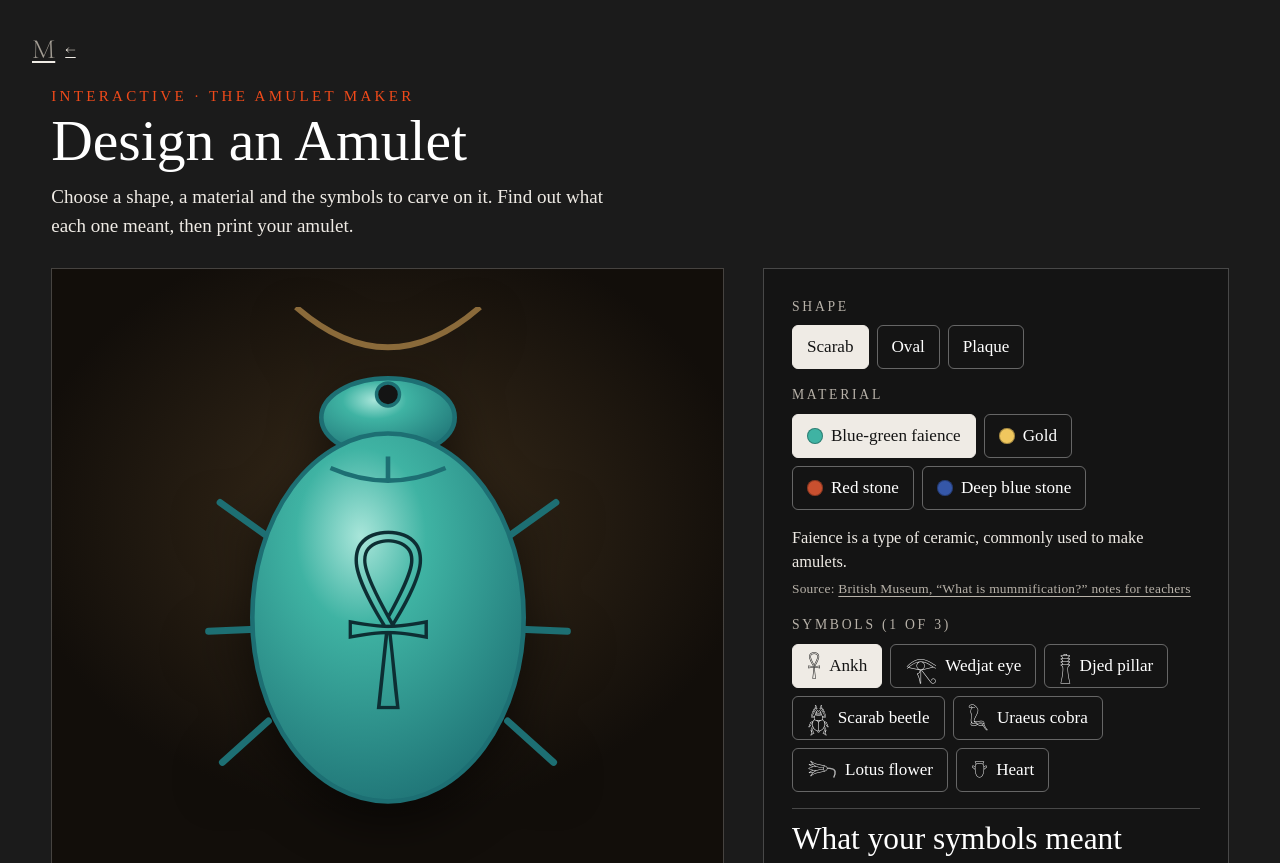
Test: Design an Amulet › carves up to three symbols, each with its meaning and source
Click the button "Wedjat eye" at (963, 666), box 890,644 -> 1036,688
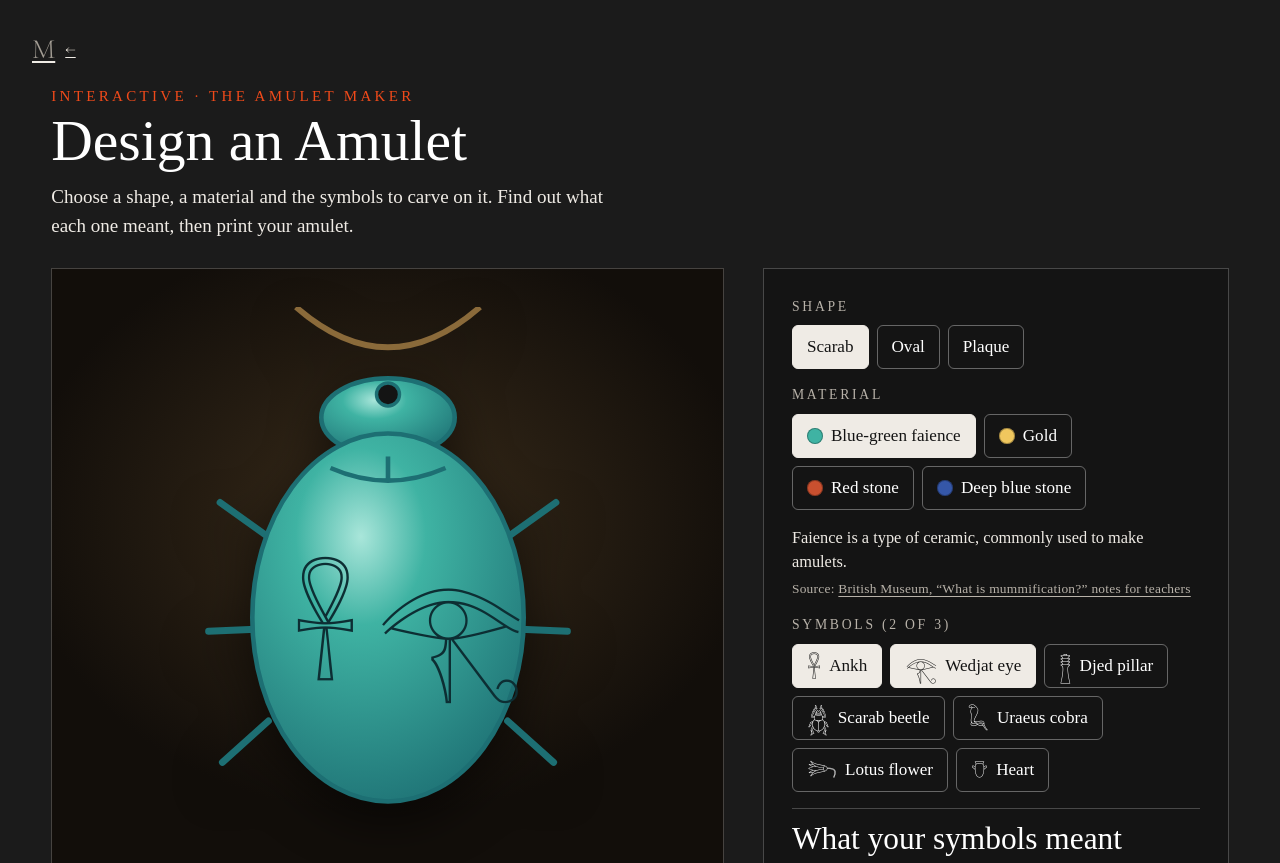
Click the button "Scarab beetle" at (868, 718), box 792,696 -> 944,740
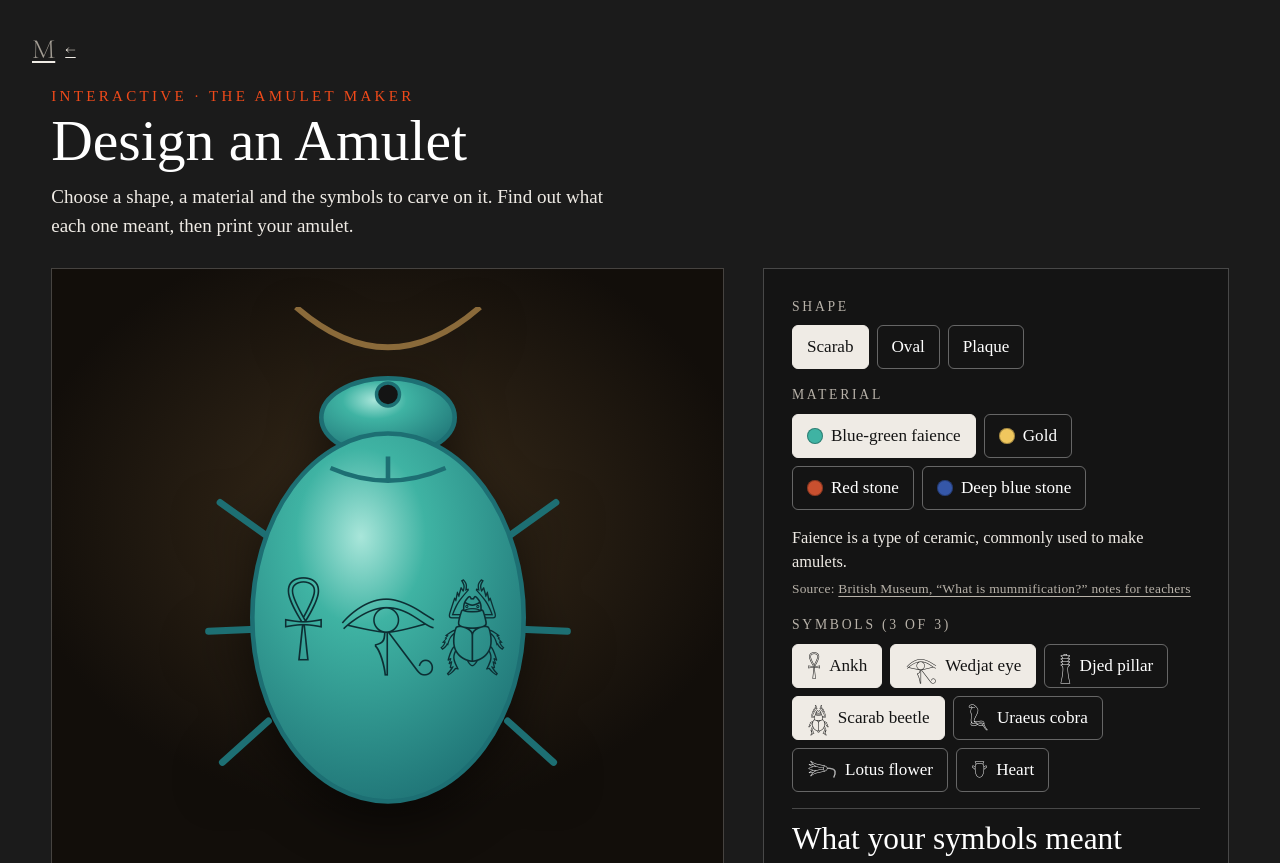
Click the button "Lotus flower" at (870, 770), box 792,748 -> 948,792
(page scrolled)
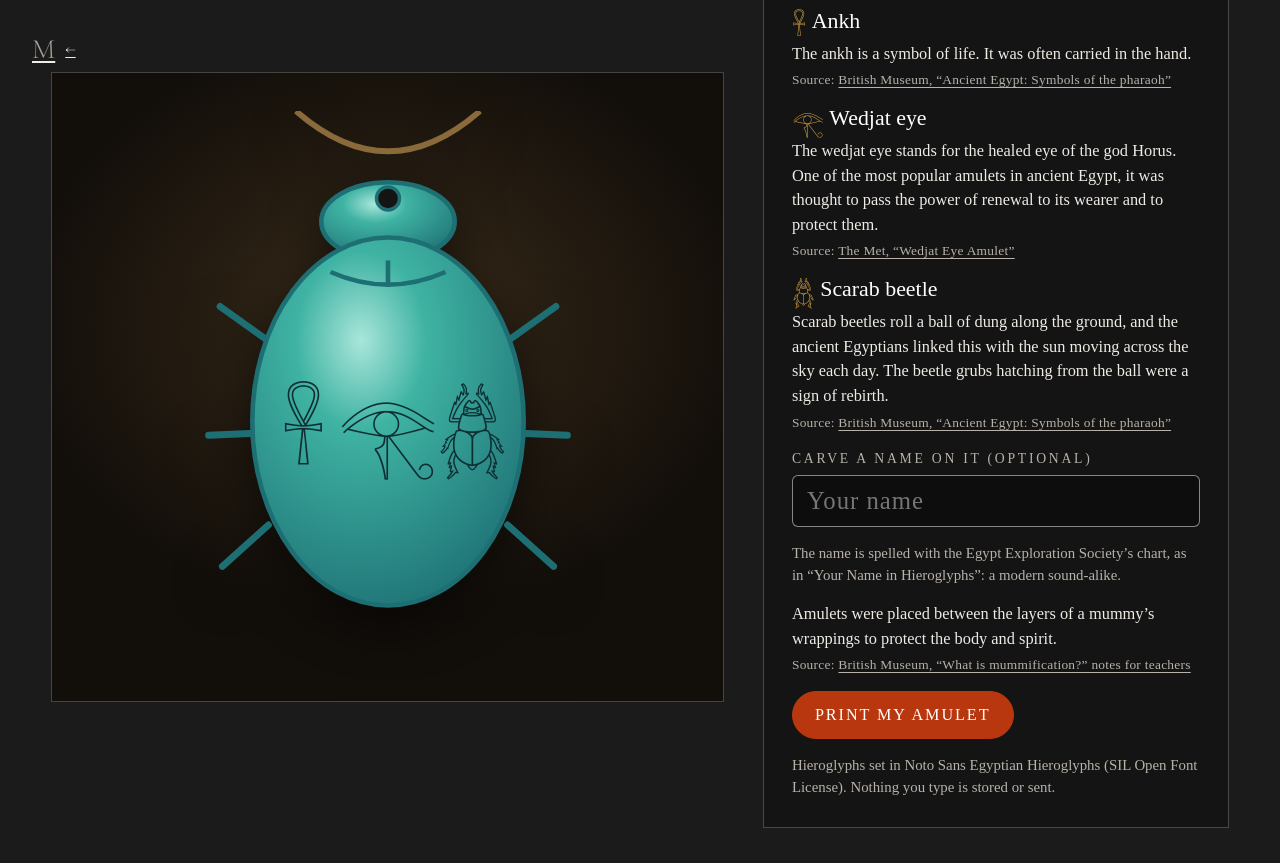
Expected: the text "The ankh is a symbol of life. It was often carried in the hand." is shown, 792,42 -> 1200,66
Expected: the text "The wedjat eye stands for the healed eye of the god Horus. One of the most popular amulets in ancient Egypt, it was thou" is shown, 792,141 -> 1176,234
Expected: the text "Scarab beetles roll a ball of dung along the ground, and the ancient Egyptians linked this with the sun moving across th" is shown, 792,312 -> 1189,405
Type "Ra" into the field labelled "Carve a name on it (optional)" at (996, 501), box 792,475 -> 1200,527
(page scrolled)
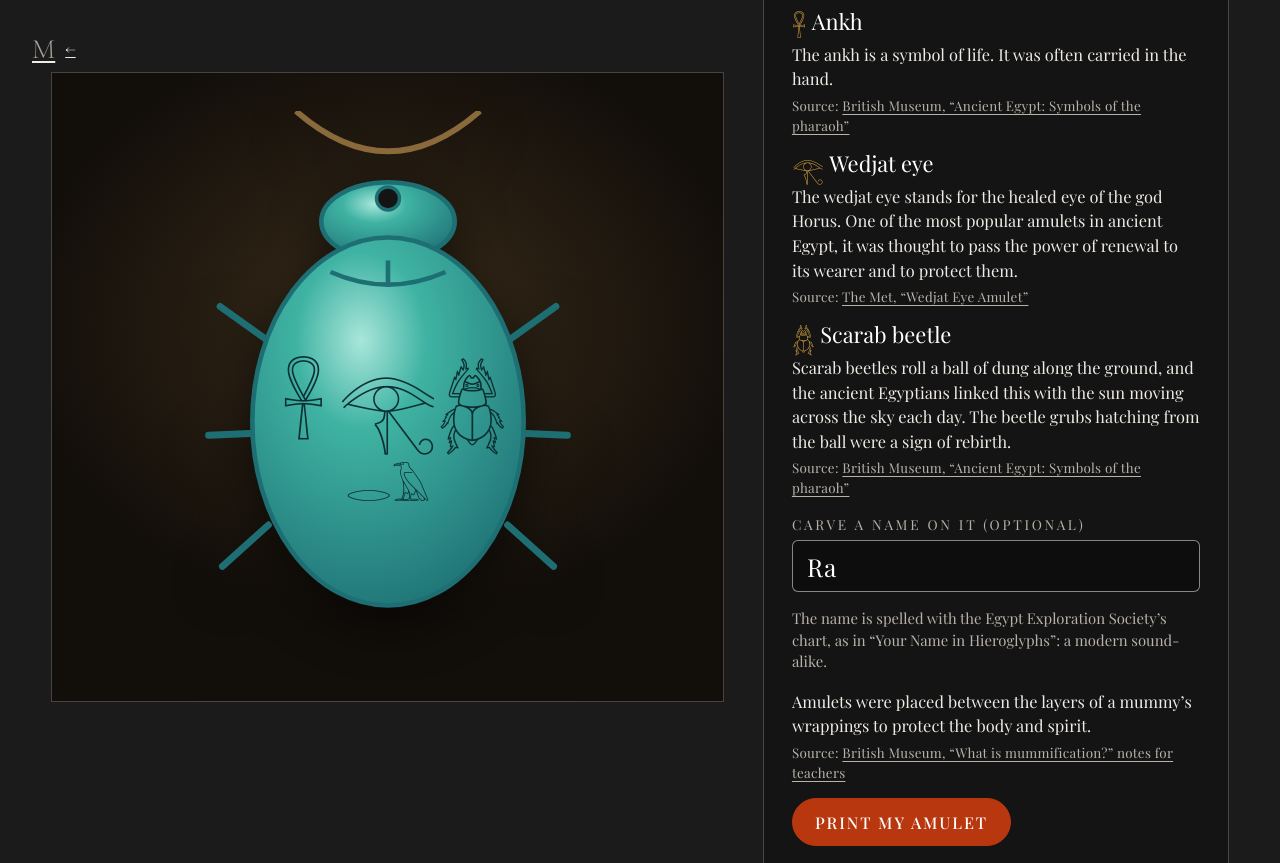
Expected: the picture named "a scarab of blue-green faience, carved with the ankh and the wedjat eye and the scarab beetle, and the name Ra" is shown, 158,111 -> 618,663
